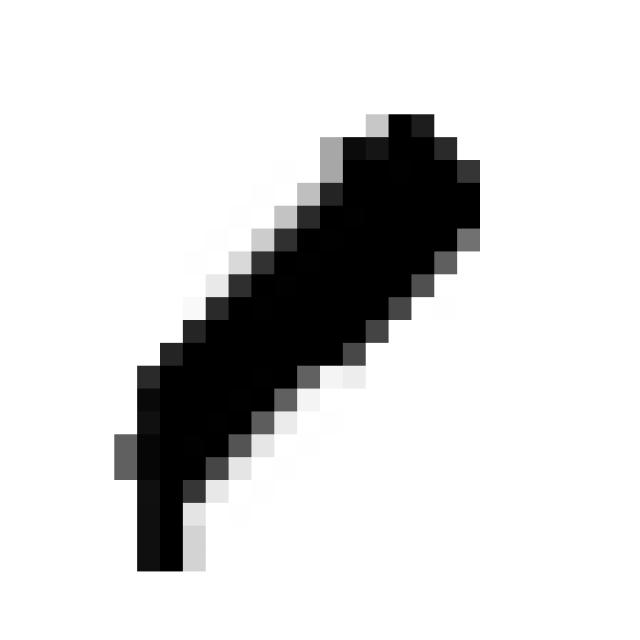0 -zero-: (112, 89, 496, 588)
